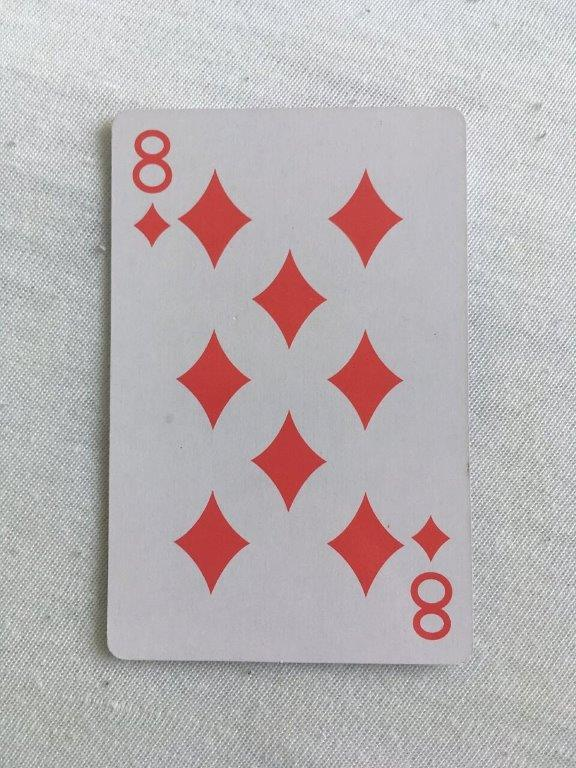8D: (103, 104, 478, 668)
